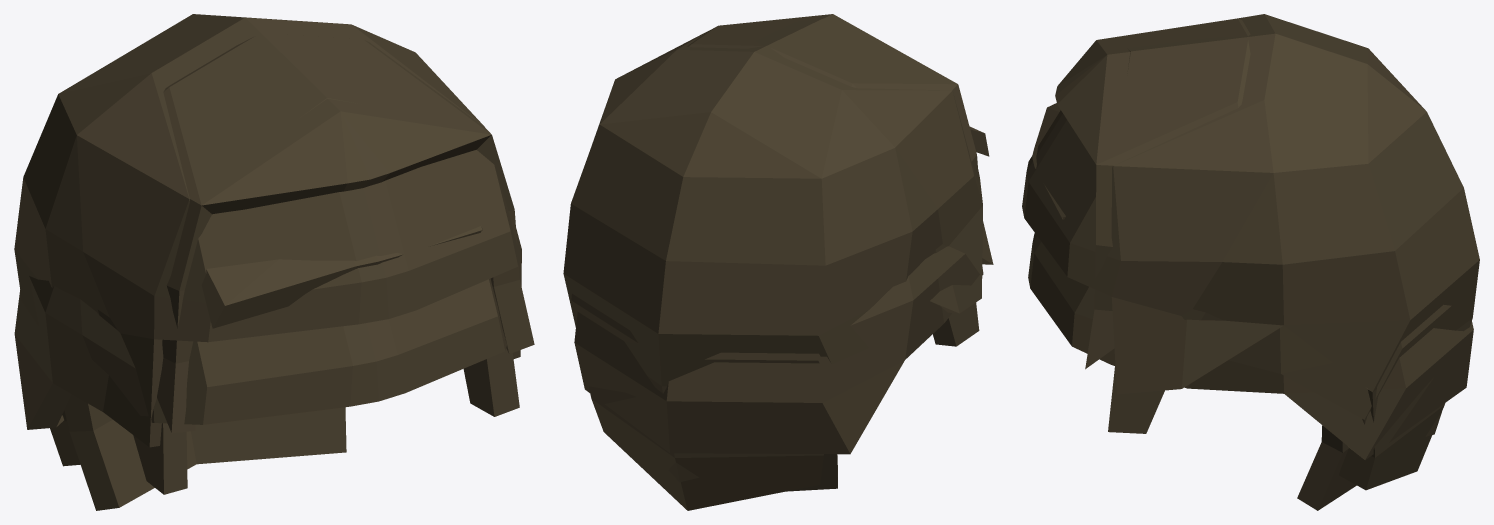
The model's file is Male_Hairstyle_4.fbx.
3 renders of one model, left to right at view 1: azimuth 30°, elevation 25°; view 2: azimuth 150°, elevation 25°; view 3: azimuth 270°, elevation 25°, orthographic. The views are drawn at different scales.
Parts seen in each view (by area): view 1: Male_Hairstyle_3, Male_Hairstyle_1, Male_Hairstyle_4, Male_Hairstyle_2; view 2: Male_Hairstyle_3, Male_Hairstyle_4, Male_Hairstyle_1, Male_Hairstyle_2; view 3: Male_Hairstyle_3, Male_Hairstyle_1, Male_Hairstyle_4, Male_Hairstyle_2.
Boxes of the visible parts, x1,y1,x2,y2 form: Male_Hairstyle_3: [14, 14, 521, 466]; Male_Hairstyle_1: [64, 33, 534, 510]; Male_Hairstyle_4: [14, 276, 506, 429]; Male_Hairstyle_2: [62, 225, 519, 494]; Male_Hairstyle_3: [563, 19, 982, 510]; Male_Hairstyle_4: [574, 246, 983, 454]; Male_Hairstyle_1: [687, 14, 993, 491]; Male_Hairstyle_2: [571, 126, 989, 481]; Male_Hairstyle_3: [1022, 14, 1479, 490]; Male_Hairstyle_1: [1055, 18, 1356, 510]; Male_Hairstyle_4: [1028, 233, 1473, 459]; Male_Hairstyle_2: [1032, 103, 1451, 436].
Bounding box in the file's own units: 52.11 × 63.1 × 59.83.
